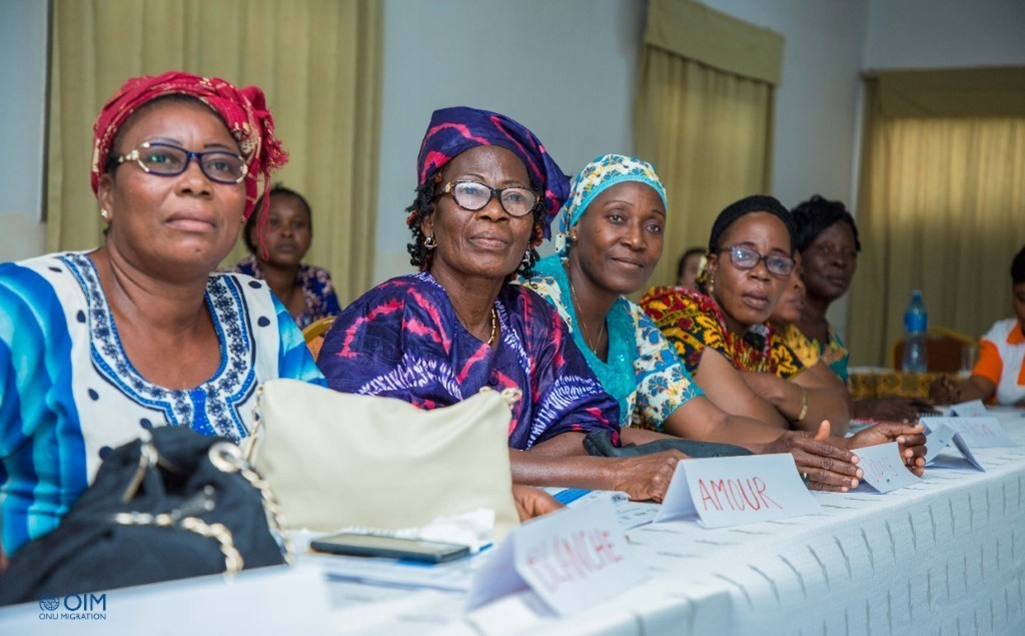person: (4, 85, 354, 521), (353, 127, 576, 461), (559, 128, 704, 431), (658, 191, 801, 435), (784, 170, 876, 402), (231, 179, 367, 325)
